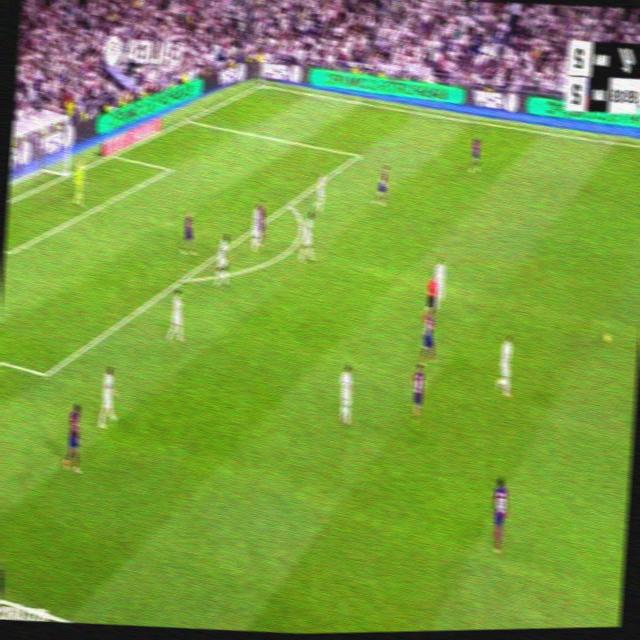bigarea_bottom_inner: (38, 359, 54, 387)
bigarea_top_inner: (352, 147, 362, 161)
bigarea_top_outter: (183, 112, 193, 125)
bottom_arc_area_intersection: (178, 268, 189, 287)
corner: (256, 78, 266, 89)
smallarea_bottom_inner: (4, 240, 16, 262)
smallarea_top_inner: (165, 163, 172, 174)
top_arc_area_intersection: (284, 196, 293, 210)
